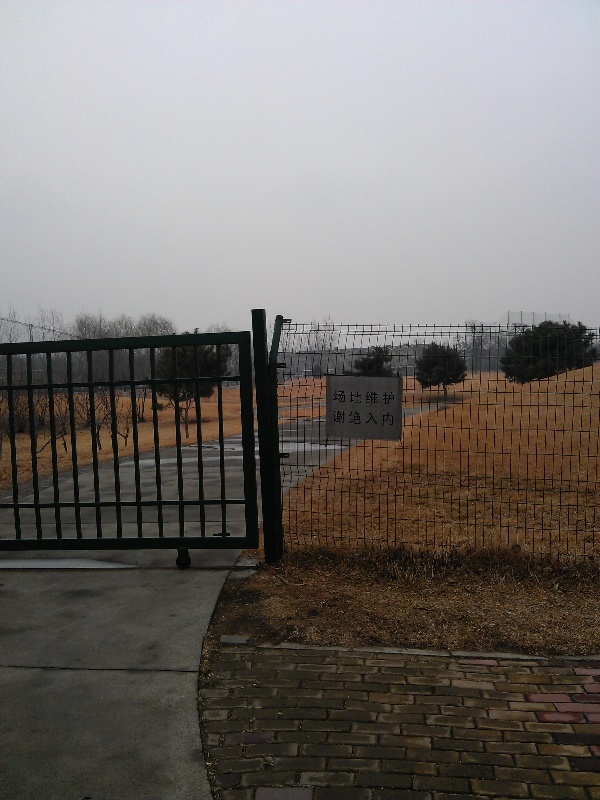text: (337, 410, 352, 427), (353, 410, 368, 427), (369, 410, 384, 427), (337, 391, 352, 406), (353, 391, 368, 406), (369, 391, 384, 406), (385, 410, 394, 427), (385, 391, 395, 406), (332, 410, 336, 427), (333, 391, 336, 406)
